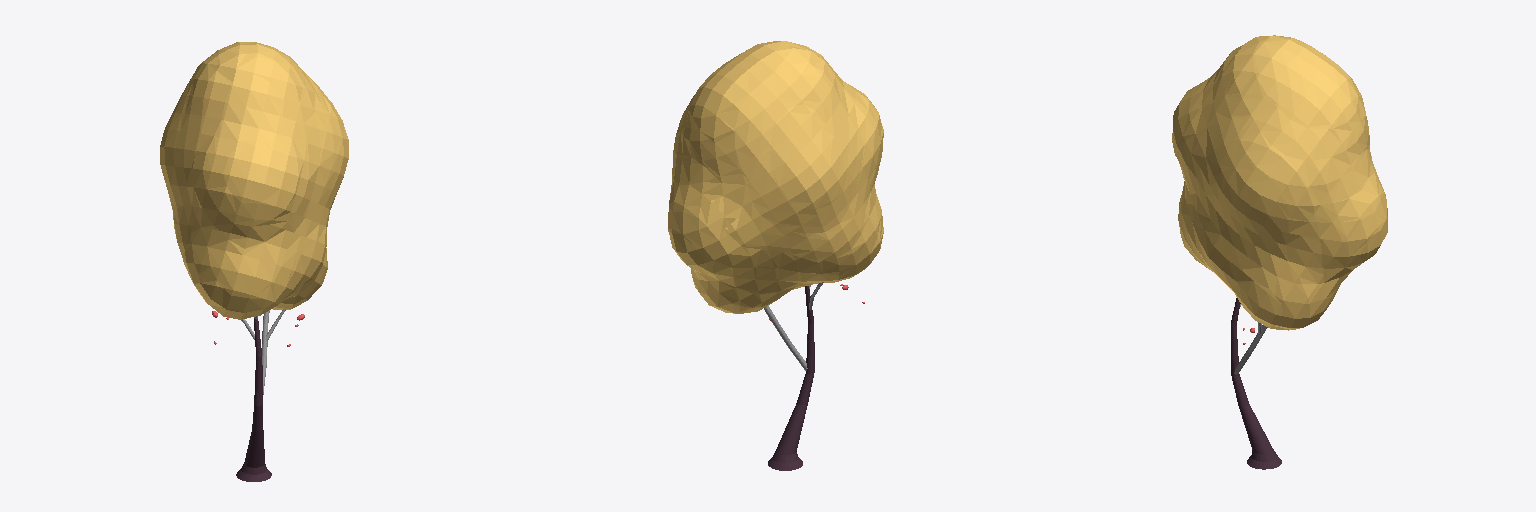
File: tree_3.obj
The picture shows the model from 3 angles: view 1: azimuth 30°, elevation 25°; view 2: azimuth 150°, elevation 25°; view 3: azimuth 270°, elevation 25°; orthographic projection.
Parts seen in each view (by area): view 1: Spheres_1, Wood_1; view 2: Spheres_1, Wood_1; view 3: Spheres_1, Wood_1.
Part boxes in pixels (left/top/right/bottom): Spheres_1: left=160, top=42, right=348, bottom=319; Wood_1: left=236, top=318, right=271, bottom=481; Spheres_1: left=668, top=41, right=883, bottom=313; Wood_1: left=768, top=286, right=814, bottom=470; Spheres_1: left=1172, top=35, right=1387, bottom=330; Wood_1: left=1231, top=298, right=1281, bottom=469.
Size of the model in its own units: 4.05 by 9.65 by 4.47.